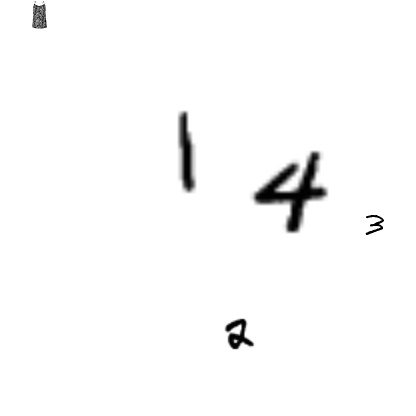1: (127, 96, 239, 208)
2: (216, 313, 258, 355)
3: (361, 210, 389, 238)
4: (235, 132, 347, 244)
T-shirt/top: (25, 1, 53, 29)
